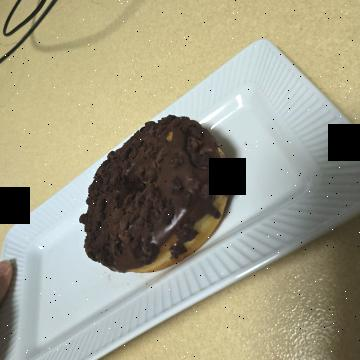doughnut: (92, 112, 288, 290)
